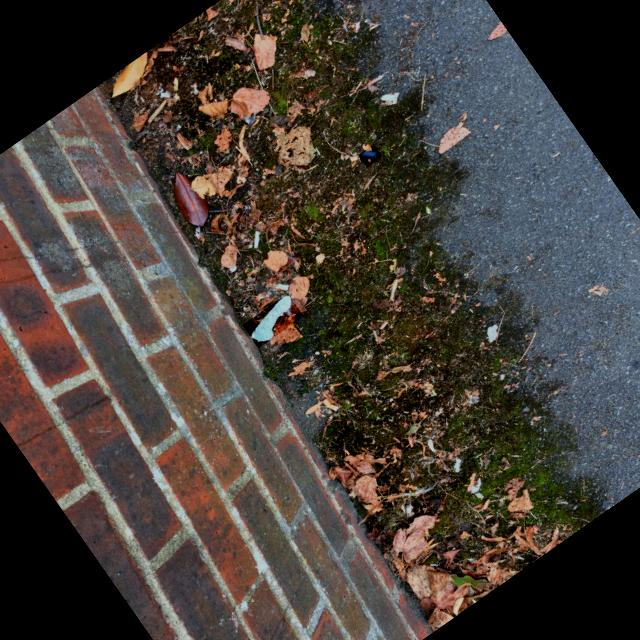Aluminium foil: (251, 295, 291, 341)
Other plastic bottle: (360, 151, 378, 164)
